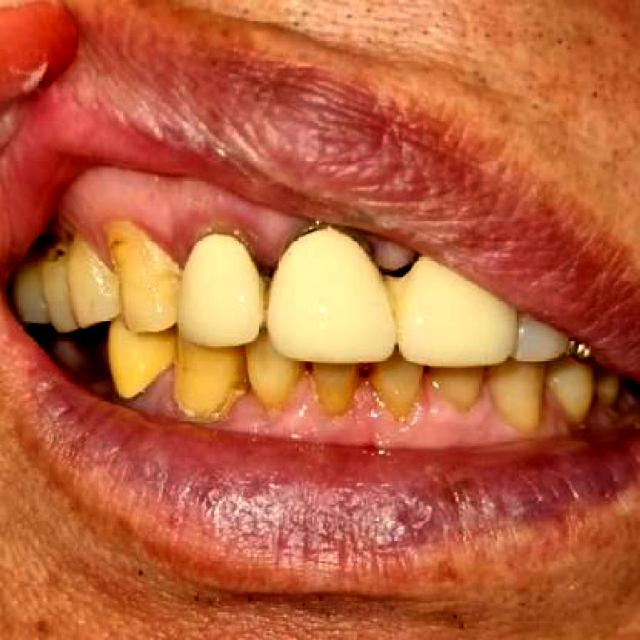Plaque: (39, 230, 78, 266)
